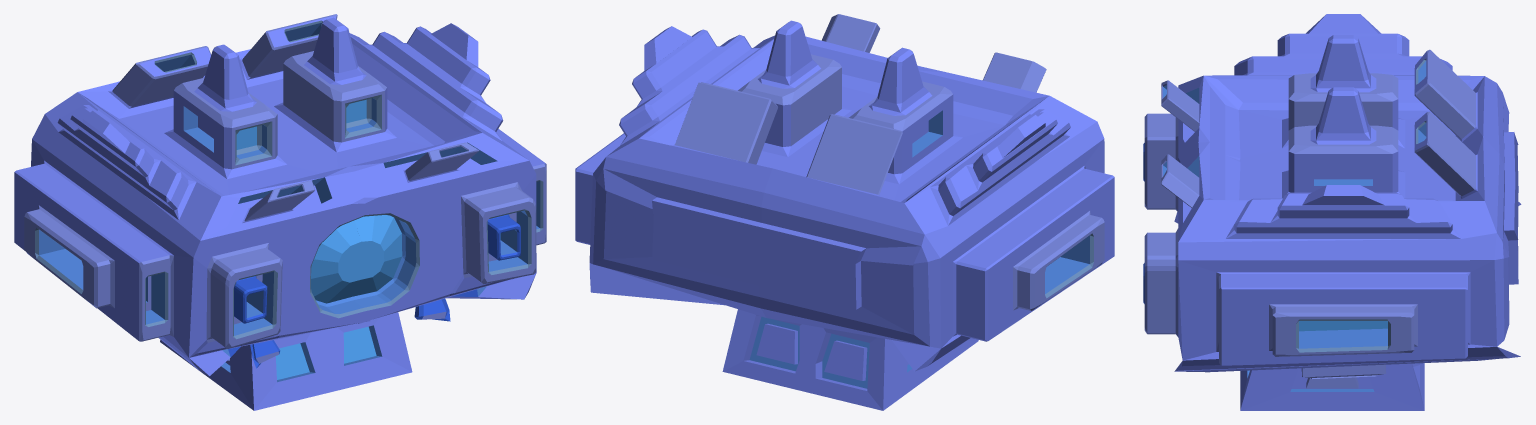
Rendered from Robot 1.fbx.
3 renders of one model, left to right at view 1: azimuth 30°, elevation 25°; view 2: azimuth 150°, elevation 25°; view 3: azimuth 270°, elevation 25°, orthographic. The views are drawn at different scales.
Visible parts, largest first — view 1: Robot 1; view 2: Robot 1; view 3: Robot 1.
Part boxes in pixels (x1,y1,x2,y2): Robot 1: (14, 14, 546, 410); Robot 1: (575, 14, 1114, 410); Robot 1: (1143, 14, 1521, 410).
Size of the model in its own units: 258 by 177 by 195.
